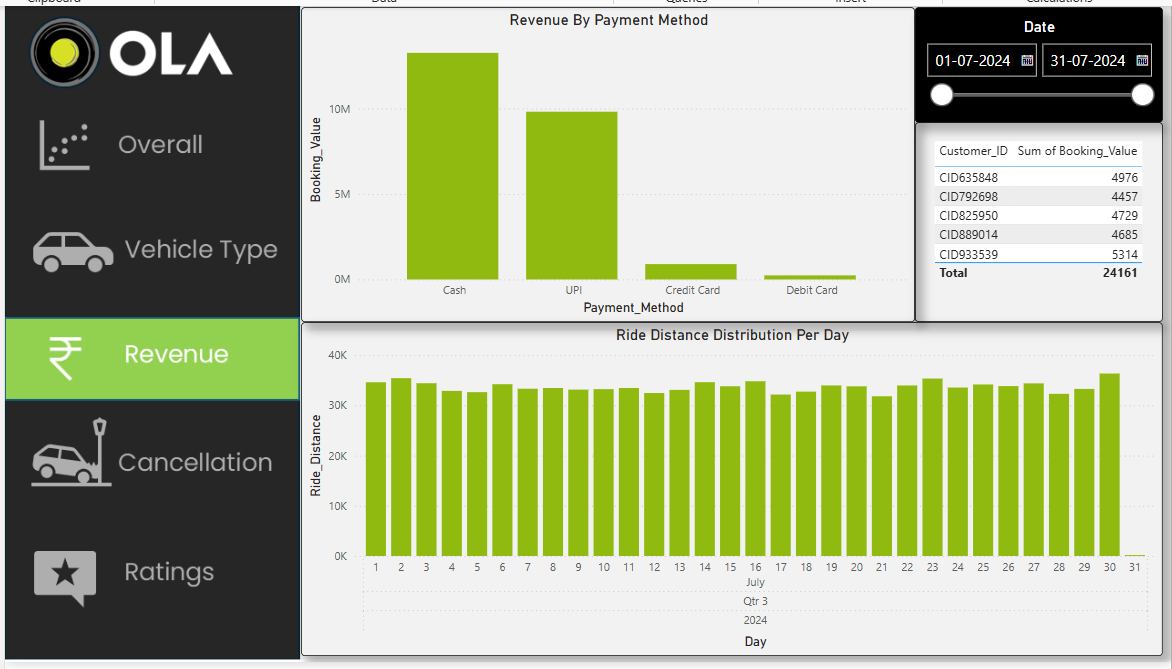

What the dashboard file says about the page in this screenshot:
{"tool":"powerbi","page":{"name":"Revenue","canvas":[1280,720],"ordinal":2},"visuals":[{"type":"actionButton","box":[0,224.4,324.5,89.3],"z":0},{"type":"actionButton","box":[0,457.2,324.5,89.3],"z":1000},{"type":"actionButton","box":[0,580.3,324.5,89.3],"z":2000},{"type":"actionButton","box":[0,106.2,324.5,89.3],"z":3000},{"type":"columnChart","title":"Revenue By Payment Method","fields":{"Y":["Sum(July.Booking_Value)"],"Category":["July.Payment_Method"]},"box":[325.2,1.4,673.8,345.8],"z":4000},{"type":"columnChart","title":"Ride Distance Distribution Per Day","fields":{"Category":["July.Date.Variation.Date Hierarchy.Year","July.Date.Variation.Date Hierarchy.Quarter","July.Date.Variation.Date Hierarchy.Month","July.Date.Variation.Date Hierarchy.Day"],"Y":["Sum(July.Ride_Distance)"]},"box":[325.2,347.2,945.5,366.4],"z":5000},{"type":"slicer","title":"Date","fields":{"Values":["July.Date"]},"box":[999,1.4,271.7,126.2],"z":6000},{"type":"tableEx","fields":{"Values":["July.Customer_ID","Sum(July.Booking_Value)"]},"box":[999,127.6,271.7,219.6],"z":7000}]}

Visuals, with their boxes in screenshot pixels (x1, y1, x2, y2):
actionButton: {"x1": 6, "y1": 206, "x2": 299, "y2": 286}
actionButton: {"x1": 6, "y1": 416, "x2": 299, "y2": 497}
actionButton: {"x1": 6, "y1": 527, "x2": 299, "y2": 608}
actionButton: {"x1": 6, "y1": 99, "x2": 299, "y2": 180}
"Revenue By Payment Method" columnChart: {"x1": 300, "y1": 4, "x2": 908, "y2": 317}
"Ride Distance Distribution Per Day" columnChart: {"x1": 300, "y1": 317, "x2": 1154, "y2": 647}
"Date" slicer: {"x1": 908, "y1": 4, "x2": 1154, "y2": 118}
tableEx - July.Customer_ID x Sum(July.Booking_Value): {"x1": 908, "y1": 118, "x2": 1154, "y2": 317}
